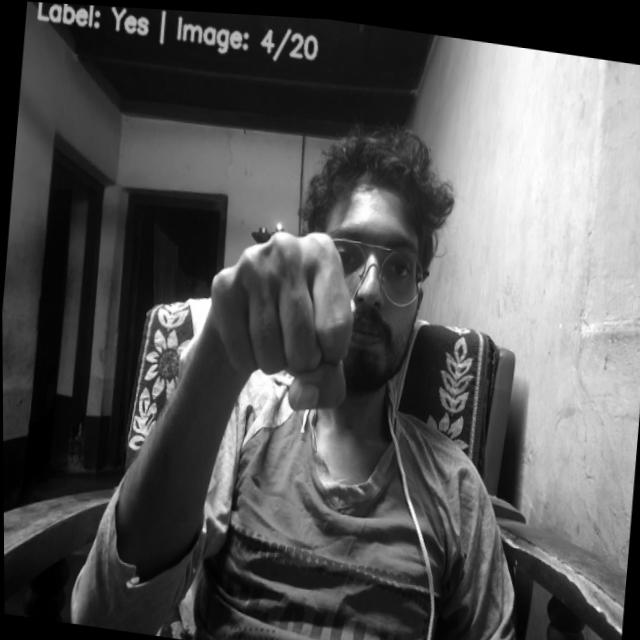Yes: (201, 211, 363, 414)
